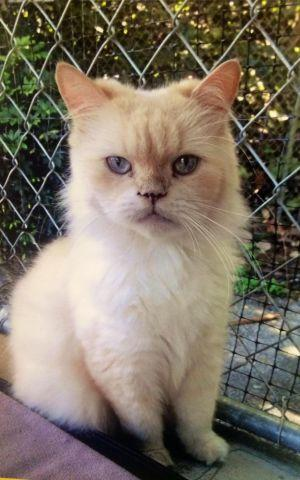persian: (52, 54, 252, 253)
